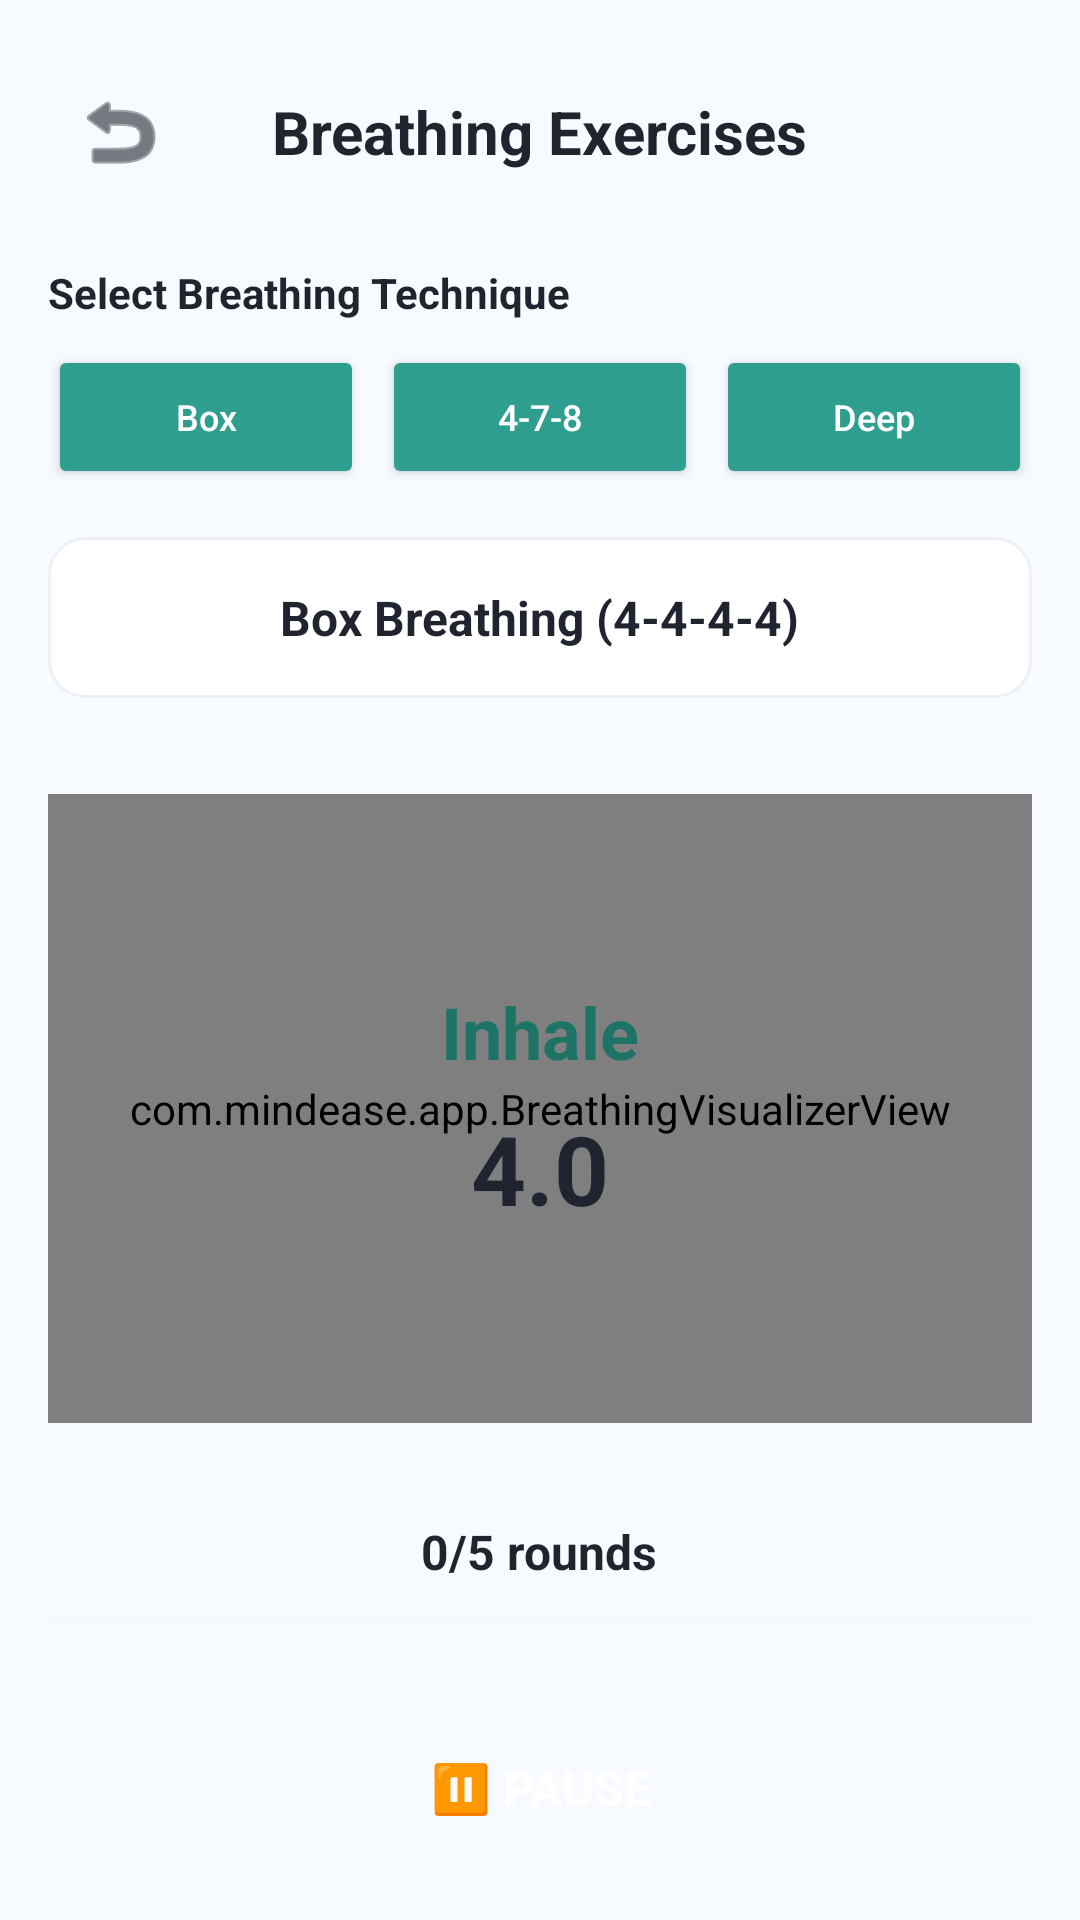

Where icons sit on this 1080×1920 app screen, as detection(x1, y1, x2, y2):
Back: detection(87, 101, 156, 164)
